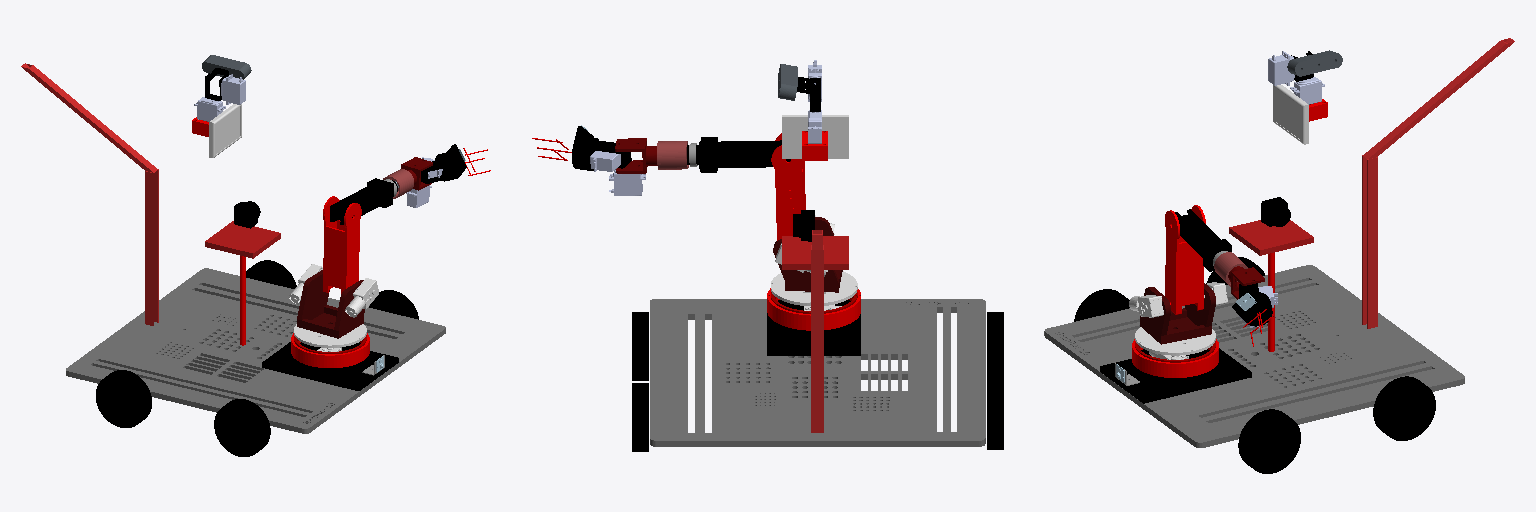
--- Render facts (derived) ---
The picture shows the robot from 3 angles, left to right: view 1: azimuth 30°, elevation 25°; view 2: azimuth 150°, elevation 25°; view 3: azimuth 270°, elevation 25°; orthographic projection.
Robot: nashbot — 54 links, 53 joints (9 revolute, 4 continuous, 2 prismatic, 38 fixed); root link link_base; default pose: all joints at 0 but 1 set to mid-range because 0 is outside their limits (slider1 = 0.015).
Links seen in each view (by area): view 1: link_base, link_power_line_mount, link_arm3, link_arm2, link_wheel, link_wheel_2, link_arm_mount_base, link_lidar_base_mount, link_display, link_arm1, link_arm4, link_arm1_top_mount (+8 smaller); view 2: link_base, link_power_line_mount, link_arm3, link_display, link_lidar_base_mount, link_arm_mount_base, link_arm4, link_arm1, link_arm1_top_mount, link_arm2, link_wheel, link_wheel_2 (+11 smaller); view 3: link_base, link_power_line_mount, link_wheel_4, link_wheel_3, link_arm3, link_arm2, link_arm_mount_base, link_lidar_base_mount, link_display, link_arm1, link_arm1_top_mount, link_wheel (+10 smaller).
Link boxes in pixels (left/top/right/bottom): link_base: left=66, top=268, right=445, bottom=433; link_power_line_mount: left=21, top=63, right=158, bottom=325; link_arm3: left=323, top=196, right=361, bottom=293; link_arm2: left=297, top=270, right=364, bottom=338; link_wheel: left=214, top=399, right=270, bottom=456; link_wheel_2: left=96, top=370, right=151, bottom=427; link_arm_mount_base: left=262, top=342, right=398, bottom=390; link_lidar_base_mount: left=205, top=221, right=280, bottom=258; link_display: left=209, top=104, right=241, bottom=157; link_arm1: left=291, top=333, right=369, bottom=367; link_arm4: left=330, top=185, right=383, bottom=224; link_arm1_top_mount: left=294, top=324, right=366, bottom=347; link_base: left=650, top=299, right=985, bottom=446; link_power_line_mount: left=811, top=230, right=823, bottom=432; link_arm3: left=771, top=133, right=805, bottom=240; link_display: left=782, top=115, right=848, bottom=158; link_lidar_base_mount: left=782, top=236, right=848, bottom=269; link_arm_mount_base: left=767, top=304, right=860, bottom=355; link_arm4: left=698, top=140, right=790, bottom=168; link_arm1: left=767, top=288, right=860, bottom=330; link_arm1_top_mount: left=771, top=271, right=857, bottom=305; link_arm2: left=773, top=217, right=842, bottom=292; link_wheel: left=987, top=312, right=1003, bottom=380; link_wheel_2: left=987, top=381, right=1003, bottom=449; link_base: left=1044, top=265, right=1464, bottom=447; link_power_line_mount: left=1362, top=38, right=1514, bottom=328; link_wheel_4: left=1238, top=409, right=1300, bottom=473; link_wheel_3: left=1373, top=376, right=1435, bottom=440; link_arm3: left=1165, top=205, right=1205, bottom=314; link_arm2: left=1140, top=283, right=1215, bottom=344; link_arm_mount_base: left=1100, top=348, right=1251, bottom=403; link_lidar_base_mount: left=1229, top=220, right=1313, bottom=255; link_display: left=1273, top=85, right=1308, bottom=144; link_arm1: left=1132, top=339, right=1218, bottom=377; link_arm1_top_mount: left=1135, top=327, right=1215, bottom=355; link_wheel: left=1074, top=289, right=1129, bottom=321.
Bounding box of the posed robot: 0.8207 × 0.7563 × 0.5976 m (x, y, z).
Meshes: 34 distinct files referenced, 46 mesh visuals loaded (32 binary STL); not drawn: 8 (file found but could not be loaded).

The robot description file, URDF, robot "nashbot":
<robot name="nashbot">
<link name="link_base">
<visual>
<origin xyz="0.2520876461287410164 0.049381592406075147661 1.4986273283692117531" rpy="2.3690644101149763567e-14 1.1096868729817312666e-14 0.52359877559829937077" />
<geometry>
<mesh filename="package://nashbot/description/link_base.stl"/>
</geometry>
<material name="link_base_material">
<color rgba="0.49803921568627451677 0.49803921568627451677 0.49803921568627451677 1.0"/>
</material>
</visual>
<collision>
<origin xyz="0.2520876461287410164 0.049381592406075147661 1.4986273283692117531" rpy="2.3690644101149763567e-14 1.1096868729817312666e-14 0.52359877559829937077" />
<geometry>
<mesh filename="package://nashbot/description/link_base.stl"/>
</geometry>
</collision>
<inertial>
<origin xyz="0.25473829630497213383 0.049944610217946147634 1.5030808118381122629" rpy="0 0 0"/>
<mass value="1.7554185880507524598" />
<inertia ixx="0.038415890154842265158" ixy="0.00020875286481553126318"  ixz="-2.0899768946497722488e-06" iyy="0.03839484829176181141" iyz="-2.5480533339506262644e-07" izz="0.076738818657899818265" />
</inertial>
</link>

<link name="link_planetary_gear_motor">
<visual>
<origin xyz="2.7755575615628913511e-17 -2.2204460492503130808e-16 -0.026817798965425746621" rpy="1.570796326794896558 1.570796326794896558 0" />
<geometry>
<mesh filename="package://nashbot/description/link_planetary_gear_motor.stl"/>
</geometry>
<material name="link_planetary_gear_motor_material">
<color rgba="0.58823529411764707842 0.58823529411764707842 0.6313725490196078205 1.0"/>
</material>
</visual>
<collision>
<origin xyz="2.7755575615628913511e-17 -2.2204460492503130808e-16 -0.026817798965425746621" rpy="1.570796326794896558 1.570796326794896558 0" />
<geometry>
<mesh filename="package://nashbot/description/link_planetary_gear_motor.stl"/>
</geometry>
</collision>
<inertial>
<origin xyz="4.6360191897660390393e-11 8.8798397577115881402e-07 -0.02900051884052946144" rpy="0 0 0"/>
<mass value="0.16371460908246579513" />
<inertia ixx="4.9412215825825060353e-05" ixy="3.9662144375412823476e-13"  ixz="-2.6336340849669741402e-13" iyy="4.9418313465302963377e-05" iyz="-5.6989714436444639164e-09" izz="9.4495347188306935303e-06" />
</inertial>
</link>

<link name="link_wheel">
<visual>
<origin xyz="0 2.0816681711721685133e-17 0.012500000000000000694" rpy="1.570796326794896558 -9.6378729602939122362e-19 -1.3877787807814456755e-17" />
<geometry>
<mesh filename="package://nashbot/description/link_wheel.stl"/>
</geometry>
<material name="link_wheel_material">
<color rgba="0 0 0 1.0"/>
</material>
</visual>
<collision>
<origin xyz="0 2.0816681711721685133e-17 0.012500000000000000694" rpy="1.570796326794896558 -9.6378729602939122362e-19 -1.3877787807814456755e-17" />
<geometry>
<mesh filename="package://nashbot/description/link_wheel.stl"/>
</geometry>
</collision>
<inertial>
<origin xyz="-1.5178301533867489243e-18 1.5390318680489373583e-17 -1.734723475976806324e-18" rpy="0 0 0"/>
<mass value="0.21292341699643807518" />
<inertia ixx="0.00015092828535447899425" ixy="-6.2836521550401898387e-21"  ixz="-2.7632411315833121429e-21" iyy="0.00015092828535447899425" iyz="7.7058585983821212491e-21" izz="0.00027967704810516230869" />
</inertial>
</link>

<joint name="front_right_wheel" type="continuous">
<origin xyz="2.7755575615628913511e-17 0.00013236607255451282583 0.024200000000000006228" rpy="-2.3697797467644779932e-15 -1.3595482708084594539e-14 1.4496119042768265128" />
<parent link="link_planetary_gear_motor" />
<child link="link_wheel" />
<axis xyz="0 0 1"/>
<limit effort="1" velocity="20" />
<joint_properties friction="0.0"/>
</joint>

<joint name="front_right_motor_mount" type="fixed">
<origin xyz="0.1067415492204779881 -0.1788715830669758422 1.4886273283692115221" rpy="-1.5707963267948854558 -2.3718399676765913129e-14 2.0943951023931965949" />
<parent link="link_base" />
<child link="link_planetary_gear_motor" />
<axis xyz="0 0 1"/>
<limit effort="1" velocity="20" />
<joint_properties friction="0.0"/>
</joint>

<link name="link_planetary_gear_motor_2">
<visual>
<origin xyz="-0.0067499999999999990563 -2.2204460492503130808e-16 -0.026817798965425750091" rpy="1.570796326794896558 1.570796326794896558 0" />
<geometry>
<mesh filename="package://nashbot/description/link_planetary_gear_motor.stl"/>
</geometry>
<material name="link_planetary_gear_motor_material">
<color rgba="0.58823529411764707842 0.58823529411764707842 0.6313725490196078205 1.0"/>
</material>
</visual>
<collision>
<origin xyz="-0.0067499999999999990563 -2.2204460492503130808e-16 -0.026817798965425750091" rpy="1.570796326794896558 1.570796326794896558 0" />
<geometry>
<mesh filename="package://nashbot/description/link_planetary_gear_motor.stl"/>
</geometry>
</collision>
<inertial>
<origin xyz="-0.006749999953639835952 8.8798397577115881402e-07 -0.029000518840529468378" rpy="0 0 0"/>
<mass value="0.16371460908246579513" />
<inertia ixx="4.9412215825825060353e-05" ixy="3.9662144375412823476e-13"  ixz="-2.6336340849669741402e-13" iyy="4.9418313465302963377e-05" iyz="-5.6989714436444639164e-09" izz="9.4495347188306935303e-06" />
</inertial>
</link>

<link name="link_wheel_2">
<visual>
<origin xyz="0 0 0.012500000000000014572" rpy="1.570796326794896558 1.4737208635348364678e-17 2.7755575615628913511e-17" />
<geometry>
<mesh filename="package://nashbot/description/link_wheel.stl"/>
</geometry>
<material name="link_wheel_material">
<color rgba="0 0 0 1.0"/>
</material>
</visual>
<collision>
<origin xyz="0 0 0.012500000000000014572" rpy="1.570796326794896558 1.4737208635348364678e-17 2.7755575615628913511e-17" />
<geometry>
<mesh filename="package://nashbot/description/link_wheel.stl"/>
</geometry>
</collision>
<inertial>
<origin xyz="-1.5525884937737550247e-18 -3.9015285796960360779e-18 1.2143064331837649661e-17" rpy="0 0 0"/>
<mass value="0.21292341699643807518" />
<inertia ixx="0.00015092828535447899425" ixy="1.2567304310080378173e-20"  ixz="-4.3552767229460301649e-21" iyy="0.00015092828535447899425" iyz="-1.0195930671590422061e-20" izz="0.00027967704810516230869" />
</inertial>
</link>

<joint name="back_right_wheel" type="continuous">
<origin xyz="-0.0067500000000000059952 -2.2204460492503130808e-16 0.024200000000000006228" rpy="3.1388029451430113175e-15 2.0076704344446854507e-14 1.8062615792804614934" />
<parent link="link_planetary_gear_motor_2" />
<child link="link_wheel_2" />
<axis xyz="0 0 1"/>
<limit effort="1" velocity="20" />
<joint_properties friction="0.0"/>
</joint>

<joint name="back_right_motor_mount" type="fixed">
<origin xyz="-0.018258450779519985741 0.037634767879130115453 1.4886273283692172953" rpy="-1.5707963267948854558 -2.3718399676765913129e-14 2.0943951023931965949" />
<parent link="link_base" />
<child link="link_planetary_gear_motor_2" />
<axis xyz="0 0 1"/>
<limit effort="1" velocity="20" />
<joint_properties friction="0.0"/>
</joint>

<link name="link_planetary_gear_motor_3">
<visual>
<origin xyz="9.7144514654701197287e-17 -2.2204460492503130808e-16 -0.026817798965425909685" rpy="1.570796326794896558 1.570796326794896558 0" />
<geometry>
<mesh filename="package://nashbot/description/link_planetary_gear_motor.stl"/>
</geometry>
<material name="link_planetary_gear_motor_material">
<color rgba="0.58823529411764707842 0.58823529411764707842 0.6313725490196078205 1.0"/>
</material>
</visual>
<collision>
<origin xyz="9.7144514654701197287e-17 -2.2204460492503130808e-16 -0.026817798965425909685" rpy="1.570796326794896558 1.570796326794896558 0" />
<geometry>
<mesh filename="package://nashbot/description/link_planetary_gear_motor.stl"/>
</geometry>
</collision>
<inertial>
<origin xyz="4.6360260923103562364e-11 8.8798397577115881402e-07 -0.029000518840529627973" rpy="0 0 0"/>
<mass value="0.16371460908246579513" />
<inertia ixx="4.9412215825825073906e-05" ixy="3.9662144375317922878e-13"  ixz="-2.6336340692303385749e-13" iyy="4.9418313465302963377e-05" iyz="-5.6989714436444647436e-09" izz="9.4495347188306969184e-06" />
</inertial>
</link>

<link name="link_wheel_3">
<visual>
<origin xyz="-1.0408340855860842566e-17 0 -0.012499999999999955591" rpy="-1.570796326794896558 2.4555750670609792415e-17 0" />
<geometry>
<mesh filename="package://nashbot/description/link_wheel.stl"/>
</geometry>
<material name="link_wheel_material">
<color rgba="0 0 0 1.0"/>
</material>
</visual>
<collision>
<origin xyz="-1.0408340855860842566e-17 0 -0.012499999999999955591" rpy="-1.570796326794896558 2.4555750670609792415e-17 0" />
<geometry>
<mesh filename="package://nashbot/description/link_wheel.stl"/>
</geometry>
</collision>
<inertial>
<origin xyz="-1.1888573593906864864e-17 4.1363685740271654947e-18 4.6837533851373791549e-17" rpy="0 0 0"/>
<mass value="0.21292341699643807518" />
<inertia ixx="0.00015092828535447899425" ixy="5.2363767958668245521e-22"  ixz="4.3757282422495333068e-23" iyy="0.00015092828535447899425" iyz="-3.8415093373879801149e-22" izz="0.00027967704810516230869" />
</inertial>
</link>

<joint name="back_left_wheel" type="continuous">
<origin xyz="1.3183898417423733918e-16 0.00013236607255451282583 0.024199999999999888267" rpy="-3.1415926535897300553 8.4607528550896269758e-16 -0.013799414977280648198" />
<parent link="link_planetary_gear_motor_3" />
<child link="link_wheel_3" />
<axis xyz="0 0 1"/>
<limit effort="1" velocity="20" />
<joint_properties friction="0.0"/>
</joint>

<joint name="back_left_motor_mount" type="fixed">
<origin xyz="0.39743374303700362837 0.27763476787912633181 1.4886273283692119662" rpy="1.5707963267949076602 -2.3718399676765935217e-14 2.094395102393197039" />
<parent link="link_base" />
<child link="link_planetary_gear_motor_3" />
<axis xyz="0 0 1"/>
<limit effort="1" velocity="20" />
<joint_properties friction="0.0"/>
</joint>

<link name="link_planetary_gear_motor_4">
<visual>
<origin xyz="2.7755575615628913511e-17 0 -0.026817798965425798663" rpy="1.570796326794896558 1.570796326794896558 0" />
<geometry>
<mesh filename="package://nashbot/description/link_planetary_gear_motor.stl"/>
</geometry>
<material name="link_planetary_gear_motor_material">
<color rgba="0.58823529411764707842 0.58823529411764707842 0.6313725490196078205 1.0"/>
</material>
</visual>
<collision>
<origin xyz="2.7755575615628913511e-17 0 -0.026817798965425798663" rpy="1.570796326794896558 1.570796326794896558 0" />
<geometry>
<mesh filename="package://nashbot/description/link_planetary_gear_motor.stl"/>
</geometry>
</collision>
<inertial>
<origin xyz="4.6360191534164516829e-11 8.8798397599320331307e-07 -0.029000518840529516951" rpy="0 0 0"/>
<mass value="0.16371460908246579513" />
<inertia ixx="4.9412215825825073906e-05" ixy="3.9662144375317922878e-13"  ixz="-2.6336340692303385749e-13" iyy="4.9418313465302963377e-05" iyz="-5.6989714436444647436e-09" izz="9.4495347188306969184e-06" />
</inertial>
</link>

<link name="link_wheel_4">
<visual>
<origin xyz="2.2204460492503130808e-16 5.5511151231257827021e-17 0.012500000000000066613" rpy="1.570796326794896558 5.7451327454495677216e-19 -6.9388939039072283776e-18" />
<geometry>
<mesh filename="package://nashbot/description/link_wheel.stl"/>
</geometry>
<material name="link_wheel_material">
<color rgba="0 0 0 1.0"/>
</material>
</visual>
<collision>
<origin xyz="2.2204460492503130808e-16 5.5511151231257827021e-17 0.012500000000000066613" rpy="1.570796326794896558 5.7451327454495677216e-19 -6.9388939039072283776e-18" />
<geometry>
<mesh filename="package://nashbot/description/link_wheel.stl"/>
</geometry>
</collision>
<inertial>
<origin xyz="2.2039618334328324953e-16 5.1118232347665877816e-17 6.4184768611141862493e-17" rpy="0 0 0"/>
<mass value="0.21292341699643807518" />
<inertia ixx="0.00015092828535447899425" ixy="1.0472753591733649104e-21"  ixz="-7.3540183705704762307e-23" iyy="0.00015092828535447899425" iyz="9.6216787126424129026e-21" izz="0.00027967704810516230869" />
</inertial>
</link>

<joint name="front_left_wheel" type="continuous">
<origin xyz="8.3266726846886740532e-17 0.00013236607255473487044 0.024199999999999888267" rpy="3.141592653589793116 1.4576386243846953543e-16 1.5124586876682513115" />
<parent link="link_planetary_gear_motor_4" />
<child link="link_wheel_4" />
<axis xyz="0 0 1"/>
<limit effort="1" velocity="20" />
<joint_properties friction="0.0"/>
</joint>

<joint name="front_left_motor_mount" type="fixed">
<origin xyz="0.52243374303700174099 0.061128416933020401913 1.4886273283692061931" rpy="1.5707963267949076602 -2.3718399676765935217e-14 2.094395102393197039" />
<parent link="link_base" />
<child link="link_planetary_gear_motor_4" />
<axis xyz="0 0 1"/>
<limit effort="1" velocity="20" />
<joint_properties friction="0.0"/>
</joint>

<link name="link_lidar_pole_mount">
<visual>
<origin xyz="2.7755575615628913511e-17 -1.3877787807814456755e-17 0" rpy="-3.141592653589793116 -0 2.6289196771528309169e-28" />
<geometry>
<mesh filename="package://nashbot/description/link_lidar_pole_mount.stl"/>
</geometry>
<material name="link_lidar_pole_mount_material">
<color rgba="1 0 0 1.0"/>
</material>
</visual>
<collision>
<origin xyz="2.7755575615628913511e-17 -1.3877787807814456755e-17 0" rpy="-3.141592653589793116 -0 2.6289196771528309169e-28" />
<geometry>
<mesh filename="package://nashbot/description/link_lidar_pole_mount.stl"/>
</geometry>
</collision>
<inertial>
<origin xyz="2.7489609469169247826e-17 -1.6803598692998956255e-17 -0.099999999999999991673" rpy="0 0 0"/>
<mass value="0.019634954084936210444" />
<inertia ixx="6.5572565412818210905e-05" ixy="3.4477001499029975834e-32"  ixz="3.8723119133539437369e-37" iyy="6.5572565412818210905e-05" iyz="2.0691053323687913409e-34" izz="2.4543692606170251104e-07" />
</inertial>
</link>

<link name="link_lidar_base_mount">
<visual>
<origin xyz="-0.00023304969072340808722 -0.067828390002250660284 -0.010000000000000008882" rpy="0 1.5777218104420236108e-30 2.6319996769441139311e-28" />
<geometry>
<mesh filename="package://nashbot/description/link_lidar_base_mount.stl"/>
</geometry>
<material name="link_lidar_base_mount_material">
<color rgba="0.74117647058823532547 0.13333333333333333148 0.13333333333333333148 1.0"/>
</material>
</visual>
<collision>
<origin xyz="-0.00023304969072340808722 -0.067828390002250660284 -0.010000000000000008882" rpy="0 1.5777218104420236108e-30 2.6319996769441139311e-28" />
<geometry>
<mesh filename="package://nashbot/description/link_lidar_base_mount.stl"/>
</geometry>
</collision>
<inertial>
<origin xyz="1.2061749168901236828e-17 1.3877787807814533792e-17 -0.0050000000000000087777" rpy="0 0 0"/>
<mass value="0.12500000000000002776" />
<inertia ixx="0.00010520833333333332016" ixy="5.8402357025106323431e-21"  ixz="-4.9468152598234281996e-34" iyy="0.00010520833333333334727" iyz="6.573840876841765467e-34" izz="0.00020833333333333334671" />
</inertial>
</link>

<link name="link_lidar">
<visual>
<origin xyz="-2.7755575615628913511e-17 2.7755575615628913511e-17 -0.040000000000000035527" rpy="0 -0 -2.6319996769441368003e-28" />
<geometry>
<mesh filename="package://nashbot/description/link_lidar.stl"/>
</geometry>
<material name="link_lidar_material">
<color rgba="0 0 0 1.0"/>
</material>
</visual>
<collision>
<origin xyz="-2.7755575615628913511e-17 2.7755575615628913511e-17 -0.040000000000000035527" rpy="0 -0 -2.6319996769441368003e-28" />
<geometry>
<mesh filename="package://nashbot/description/link_lidar.stl"/>
</geometry>
</collision>
<inertial>
<origin xyz="-2.8632664277945774584e-17 3.0511030913710427473e-17 -0.020000000000000035111" rpy="0 0 0"/>
<mass value="0.31808625617596653079" />
<inertia ixx="0.00020344266801254523081" ixy="-1.1293336711042068263e-20"  ixz="0" iyy="0.00020344266801254523081" iyz="-5.0812476927030464287e-34" izz="0.00032206233437816612734" />
</inertial>
</link>

<joint name="lidar_base" type="fixed">
<origin xyz="5.5511151231257827021e-17 -6.9388939039072283776e-18 -0.010000000000000008882" rpy="2.8398992587956424995e-29 1.5146129380243729344e-28 -1.5707963267948947816" />
<parent link="link_lidar_base_mount" />
<child link="link_lidar" />
<axis xyz="0 0 1"/>
<limit effort="1" velocity="20" />
<joint_properties friction="0.0"/>
</joint>

<joint name="lidar_plate" type="fixed">
<origin xyz="2.7755575615628913511e-17 -6.9388939039072283776e-18 -0.19999999999999995559" rpy="2.7755575615477452217e-17 -6.3108872417677637369e-29 -1.49880108324361995e-15" />
<parent link="link_lidar_pole_mount" />
<child link="link_lidar_base_mount" />
<axis xyz="0 0 1"/>
<limit effort="1" velocity="20" />
<joint_properties friction="0.0"/>
</joint>

<joint name="lidar_pole_base" type="fixed">
<origin xyz="0.24102998787479745779 0.075991116617792897614 1.5086273283692124281" rpy="-3.1415926535897695793 1.1096868729817273223e-14 0.52359877559829937077" />
<parent link="link_base" />
<child link="link_lidar_pole_mount" />
<axis xyz="0 0 1"/>
<limit effort="1" velocity="20" />
<joint_properties friction="0.0"/>
</joint>

<link name="link_camera_pole">
<visual>
<origin xyz="0 -5.2041704279304212832e-18 0" rpy="3.141592653589793116 -3.1554436208840472216e-30 -5.5511151230994932962e-17" />
<geometry>
<mesh filename="package://nashbot/description/link_camera_pole.stl"/>
</geometry>
<material name="link_camera_pole_material">
<color rgba="0 0 0 1.0"/>
</material>
</visual>
<collision>
<origin xyz="0 -5.2041704279304212832e-18 0" rpy="3.141592653589793116 -3.1554436208840472216e-30 -5.5511151230994932962e-17" />
<geometry>
<mesh filename="package://nashbot/description/link_camera_pole.stl"/>
</geometry>
</collision>
<inertial>
<origin xyz="-8.6895599421174607392e-19 -6.3374603801967724654e-18 -0.19999999999999998335" rpy="0 0 0"/>
<mass value="0.15707963267948968356" />
<inertia ixx="0.002098322093210182749" ixy="-2.32960550095056605e-19"  ixz="6.6087456654574002189e-33" iyy="0.002098322093210182749" iyz="-3.6754694085754244242e-49" izz="7.8539816339744905176e-06" />
</inertial>
</link>

<link name="link_camera_mount">
<visual>
<origin xyz="-2.7755575615628913511e-17 1.0408340855860842566e-17 0.39999999999999991118" rpy="3.141592653589793116 -3.1554436208840472216e-30 2.6289196771528215002e-28" />
<geometry>
<mesh filename="package://nashbot/description/link_camera_mount.stl"/>
</geometry>
<material name="link_camera_mount_material">
<color rgba="1 0 0 1.0"/>
</material>
</visual>
<collision>
<origin xyz="-2.7755575615628913511e-17 1.0408340855860842566e-17 0.39999999999999991118" rpy="3.141592653589793116 -3.1554436208840472216e-30 2.6289196771528215002e-28" />
<geometry>
<mesh filename="package://nashbot/description/link_camera_mount.stl"/>
</geometry>
</collision>
<inertial>
<origin xyz="6.6098729238871714592e-06 -2.4244051401543178397e-05 -0.012500000000000122125" rpy="0 0 0"/>
<mass value="0.051856380469324246663" />
<inertia ixx="1.6736544580269791969e-05" ixy="-1.5016677132805265823e-10"  ixz="1.9571202763295336942e-35" iyy="9.7338277476605398472e-06" iyz="-3.0715018515920239389e-35" izz="2.1068666029042382024e-05" />
</inertial>
</link>

<link name="link_servo_mg">
<visual>
<origin xyz="0 -1.9081958235744878039e-17 0" rpy="-1.570796326794896558 -1.5777218104420239611e-30 5.5511151231521996817e-17" />
<geometry>
<mesh filename="package://nashbot/description/link_servo_mg.stl"/>
</geometry>
<material name="link_servo_mg_material">
<color rgba="0.79607843137254896693 0.82352941176470584317 0.9372549019607843146 1.0"/>
</material>
</visual>
<collision>
<origin xyz="0 -1.9081958235744878039e-17 0" rpy="-1.570796326794896558 -1.5777218104420239611e-30 5.5511151231521996817e-17" />
<geometry>
<mesh filename="package://nashbot/description/link_servo_mg.stl"/>
</geometry>
</collision>
<inertial>
<origin xyz="-1.5748677662324889097e-11 -0.00026467633508028625636 -0.019605366569395203669" rpy="0 0 0"/>
<mass value="0.26063138106081079615" />
<inertia ixx="7.0719662757425341172e-05" ixy="-3.4286267469129391787e-12"  ixz="-7.5224114899793207117e-13" iyy="4.2001447207912371098e-05" iyz="-4.6721488492824413147e-07" izz="4.6556191039109613792e-05" />
</inertial>
</link>

<link name="link_camservo_m1">
<visual>
<origin xyz="-0.064767859876155853271 -5.2041704279304212832e-18 0.42339999999999999858" rpy="3.141592653589793116 -1.5777218104420236108e-30 -5.5511151231000596736e-17" />
<geometry>
<mesh filename="package://nashbot/description/link_camservo_m1.stl"/>
</geometry>
<material name="link_camservo_m1_material">
<color rgba="0 0 0 1.0"/>
</material>
</visual>
<collision>
<origin xyz="-0.064767859876155853271 -5.2041704279304212832e-18 0.42339999999999999858" rpy="3.141592653589793116 -1.5777218104420236108e-30 -5.5511151231000596736e-17" />
<geometry>
<mesh filename="package://nashbot/description/link_camservo_m1.stl"/>
</geometry>
</collision>
<inertial>
<origin xyz="2.0512893336016579937e-06 1.3208868744071550166e-17 -0.015741275663100628979" rpy="0 0 0"/>
<mass value="0.0035384613163860325138" />
<inertia ixx="1.3520111013862274014e-06" ixy="-7.5051692714794434663e-23"  ixz="-4.289093912310625612e-13" iyy="7.2414223788426267862e-07" iyz="2.3809251590923750871e-29" izz="7.8914424131184530706e-07" />
</inertial>
</link>

<link name="link_servo_mg_2">
<visual>
<origin xyz="-2.7755575615628913511e-17 -0.010149999999999881339 -0.040699999999999986189" rpy="1.570796326794896558 -3.5042722658857824434e-28 0" />
<geometry>
<mesh filename="package://nashbot/description/link_servo_mg.stl"/>
</geometry>
<material name="link_servo_mg_material">
<color rgba="0.79607843137254896693 0.82352941176470584317 0.9372549019607843146 1.0"/>
</material>
</visual>
<collision>
<origin xyz="-2.7755575615628913511e-17 -0.010149999999999881339 -0.040699999999999986189" rpy="1.570796326794896558 -3.5042722658857824434e-28 0" />
<geometry>
<mesh filename="package://nashbot/description/link_servo_mg.stl"/>
</geometry>
</collision>
<inertial>
<origin xyz="-1.5748707623918422667e-11 -0.0098853236649196138397 -0.02109463343060478252" rpy="0 0 0"/>
<mass value="0.26063138106081079615" />
<inertia ixx="7.0719662757425368277e-05" ixy="3.4286267462274423266e-12"  ixz="7.5224114388102794094e-13" iyy="4.2001447207912357546e-05" iyz="-4.6721488492824402559e-07" izz="4.6556191039109613792e-05" />
</inertial>
</link>

<link name="link_camservo_m2">
<visual>
<origin xyz="-0.083809903052826761893 -0.45295193791389476434 -0.013222478037231710085" rpy="-1.570796326794896558 -2.7660546660355029999e-18 -2.7755575615628913511e-17" />
<geometry>
<mesh filename="package://nashbot/description/link_camservo_m2.stl"/>
</geometry>
<material name="link_camservo_m2_material">
<color rgba="0 0 0 1.0"/>
</material>
</visual>
<collision>
<origin xyz="-0.083809903052826761893 -0.45295193791389476434 -0.013222478037231710085" rpy="-1.570796326794896558 -2.7660546660355029999e-18 -2.7755575615628913511e-17" />
<geometry>
<mesh filename="package://nashbot/description/link_camservo_m2.stl"/>
</geometry>
</collision>
<inertial>
<origin xyz="6.0868551865489450847e-09 -0.015262248583463478013 -0.013222478037231637227" rpy="0 0 0"/>
<mass value="0.001931722985446674215" />
<inertia ixx="5.1758431260979297283e-07" ixy="1.5673206370744795364e-13"  ixz="-5.1088387087330305326e-25" iyy="2.7939953019740575608e-07" iyz="1.1722638158126785291e-23" izz="2.9461796162978867886e-07" />
</inertial>
</link>

<link name="link_camera">
<visual>
<origin xyz="0.035000000000000044964 0.011999999999999566569 1.1102230246251565404e-16" rpy="3.141592653589793116 2.2641137767967475095e-17 1.3144068865196876003e-17" />
<geometry>
<mesh filename="package://nashbot/description/link_camera.stl"/>
</geometry>
<material name="link_camera_material">
<color rgba="0.34901960784313723618 0.37647058823529411242 0.4000000000000000222 1.0"/>
</material>
</visual>
<collision>
<origin xyz="0.035000000000000044964 0.011999999999999566569 1.1102230246251565404e-16" rpy="3.141592653589793116 2.2641137767967475095e-17 1.3144068865196876003e-17" />
<geometry>
<mesh filename="package://nashbot/description/link_camera.stl"/>
</geometry>
</collision>
<inertial>
<origin xyz="6.5715523994494540183e-05 -4.3067060068315713854e-16 -0.012452720306548941201" rpy="0 0 0"/>
<mass value="0.38286436898885872759" />
<inertia ixx="3.7903988598626700514e-05" ixy="8.2120786434934340389e-21"  ixz="7.541195460715395026e-08" iyy="0.00024397425804645867767" iyz="9.9121992461543579714e-25" izz="0.00024183895818068675584" />
</inertial>
</link>

<joint name="depthcam_fixed" type="fixed">
<origin xyz="-1.6345413367258032622e-06 -0.02923193791389466778 -0.013222478037231677125" rpy="-1.5707963267949081043 -1.570796326794896558 0" />
<parent link="link_camservo_m2" />
<child link="link_camera" />
<axis xyz="0 0 1"/>
<limit effort="1" velocity="20" />
<joint_properties friction="0.0"/>
</joint>

<joint name="depthcam_link2" type="revolute">
<origin xyz="-2.7755575615628913511e-17 0 0.0035500000000000444395" rpy="3.1415926535897926719 1.7901331675026359618e-15 1.3713482675482973061" />
<parent link="link_servo_mg_2" />
<child link="link_camservo_m2" />
<axis xyz="0 0 1"/>
<limit effort="1" velocity="20" lower="-1.2217304763960306069" upper="1.2217304763960306069"/>
<joint_properties friction="0.0"/>
</joint>

<joint name="depthcam_servo2" type="fixed">
<origin xyz="2.0431766707962317753e-06 -0.016528097546539697454 -0.03422905478477455965" rpy="-1.57079632679489678 1.1385562047249956919e-17 -5.55111512310009357e-17" />
<parent link="link_camservo_m1" />
<child link="link_servo_mg_2" />
<axis xyz="0 0 1"/>
<limit effort="1" velocity="20" />
<joint_properties friction="0.0"/>
</joint>

<joint name="depthcam_link1" type="revolute">
<origin xyz="1.1102230246251565404e-16 -0.010149999999999992362 -0.044749999999999401368" rpy="-8.4146415866264689867e-15 -1.3693585647025311445e-16 -1.165734175856133533e-15" />
<parent link="link_servo_mg" />
<child link="link_camservo_m1" />
<axis xyz="0 0 1"/>
<limit effort="1" velocity="20" lower="-1.570796326794896558" upper="1.570796326794896558"/>
<joint_properties friction="0.0"/>
</joint>

<joint name="depthcam_servo1" type="fixed">
<origin xyz="8.3266726846886740532e-17 1.7347234759768070944e-17 -0.024999999999999911182" rpy="4.3617391034892119681e-16 5.330945733157527207e-17 -3.141592653589793116" />
<parent link="link_camera_mount" />
<child link="link_servo_mg" />
<axis xyz="0 0 1"/>
<limit effort="1" velocity="20" />
<joint_properties friction="0.0"/>
</joint>

<link name="link_display">
<visual>
<origin xyz="-2.2204460492503130808e-16 2.7755575615628913511e-17 1.0408340855860842566e-17" rpy="3.141592653589793116 3.1554436208840472216e-30 0" />
<geometry>
<mesh filename="package://nashbot/description/link_display.stl"/>
</geometry>
<material name="link_display_material">
<color rgba="0.90196078431372550543 0.90196078431372550543 0.90196078431372550543 1.0"/>
</material>
</visual>
<collision>
<origin xyz="-2.2204460492503130808e-16 2.7755575615628913511e-17 1.0408340855860842566e-17" rpy="3.141592653589793116 3.1554436208840472216e-30 0" />
<geometry>
<mesh filename="package://nashbot/description/link_display.stl"/>
</geometry>
</collision>
<inertial>
<origin xyz="4.0904475002860896205e-09 1.3966962969221515218e-09 -0.004561055684320898182" rpy="0 0 0"/>
<mass value="0.07400407337253489537" />
<inertia ixx="6.254987234932367769e-05" ixy="-6.9969589148138296393e-12"  ixz="-2.2480618275590994195e-13" iyy="3.0966478872211573067e-05" iyz="2.1520166570592633383e-13" izz="9.2484010822233453809e-05" />
</inertial>
</link>

<joint name="display" type="fixed">
<origin xyz="5.5511151231257827021e-17 0.027086138725280768658 -0.012499999999999955591" rpy="1.5707963267948970021 1.570796326794896558 0" />
<parent link="link_camera_mount" />
<child link="link_display" />
<axis xyz="0 0 1"/>
<limit effort="1" velocity="20" />
<joint_properties friction="0.0"/>
</joint>

<joint name="depthcam_servo_mount" type="fixed">
<origin xyz="-5.5511151231257827021e-17 -1.7347234759768070944e-17 -0.39999999999999991118" rpy="5.679798517591284999e-29 6.4686594228123012885e-29 -5.5511151230994969939e-17" />
<parent link="link_camera_pole" />
<child link="link_camera_mount" />
<axis xyz="0 0 1"/>
<limit effort="1" velocity="20" />
<joint_properties friction="0.0"/>
</joint>

<joint name="depthcam_mount" type="fixed">
<origin xyz="0.20742998787479799416 0.13418802375210614475 1.5086273283692142044" rpy="-3.1415926535897695793 1.1096868729817318977e-14 0.52359877559829937077" />
<parent link="link_base" />
<child link="link_camera_pole" />
<axis xyz="0 0 1"/>
<limit effort="1" velocity="20" />
<joint_properties friction="0.0"/>
</joint>

<link name="link_arm_mount_base">
<visual>
<origin xyz="0.069996574328592880976 0.099666585571470511784 0" rpy="3.141592653589793116 3.1554436208840472216e-30 5.5511151231520714918e-17" />
<geometry>
<mesh filename="package://nashbot/description/link_arm_mount_base.stl"/>
</geometry>
<material name="link_arm_mount_base_material">
<color rgba="0 0 0 1.0"/>
</material>
</visual>
<collision>
<origin xyz="0.069996574328592880976 0.099666585571470511784 0" rpy="3.141592653589793116 3.1554436208840472216e-30 5.5511151231520714918e-17" />
<geometry>
<mesh filename="package://nashbot/description/link_arm_mount_base.stl"/>
</geometry>
</collision>
<inertial>
<origin xyz="-1.3877787807814456755e-17 -3.885590423242900587e-18 -0.0050000000000000001041" rpy="0 0 0"/>
<mass value="0.34676843776409471687" />
<inertia ixx="0.001147812875711951312" ixy="9.5429245679359389615e-08"  ixz="-3.6218588166338505088e-33" iyy="0.0005717053455846199915" iyz="-3.0112160452471111115e-37" izz="0.0017137387473338365484" />
</inertial>
</link>

<link name="link_wormgearmotor">
<visual>
<origin xyz="2.7755575615628913511e-17 5.5511151231257827021e-17 -0.03919999999999990159" rpy="1.570796326794896558 -7.4899662021316358754e-16 -5.5511151231013680734e-17" />
<geometry>
<mesh filename="package://nashbot/description/link_wormgearmotor.stl"/>
</geometry>
<material name="link_wormgearmotor_material">
<color rgba="0.91764705882352937127 0.91764705882352937127 0.91764705882352937127 1.0"/>
</material>
</visual>
<collision>
<origin xyz="2.7755575615628913511e-17 5.5511151231257827021e-17 -0.03919999999999990159" rpy="1.570796326794896558 -7.4899662021316358754e-16 -5.5511151231013680734e-17" />
<geometry>
<mesh filename="package://nashbot/description/link_wormgearmotor.stl"/>
</geometry>
</collision>
<inertial>
<origin xyz="0.012275831121147539118 -0.00018146365526520243008 -0.012751006890205829683" rpy="0 0 0"/>
<mass value="0.28586755284124198973" />
<inertia ixx="3.6344599448181424105e-05" ixy="2.2893917968346145359e-06"  ixz="-4.1274865069703853439e-06" iyy="0.00011286967916682722206" iyz="-6.3114747963255398508e-08" izz="0.00012232130776055024951" />
</inertial>
</link>

<link name="link_arm1_base">
<visual>
<origin xyz="-0.18119999999999994444 -2.7755575615628913511e-17 0.0075000000000000621725" rpy="-3.141592653589793116 -1.5777218104420236108e-30 -5.5511151231010605409e-17" />
<geometry>
<mesh filename="package://nashbot/description/link_arm1_base.stl"/>
</geometry>
<material name="link_arm1_base_material">
<color rgba="0 0 0 1.0"/>
</material>
</visual>
<collision>
<origin xyz="-0.18119999999999994444 -2.7755575615628913511e-17 0.0075000000000000621725" rpy="-3.141592653589793116 -1.5777218104420236108e-30 -5.5511151231010605409e-17" />
<geometry>
<mesh filename="package://nashbot/description/link_arm1_base.stl"/>
</geometry>
</collision>
<inertial>
<origin xyz="5.5511151231257827021e-17 -4.4141104363653874474e-17 6.8521577301083880229e-17" rpy="0 0 0"/>
<mass value="0.039230638261702803493" />
<inertia ixx="9.0223776933653446219e-05" ixy="4.4487477082576095678e-32"  ixz="-1.4002695692781657919e-34" iyy="9.0223776933653446219e-05" iyz="2.8469604137736200949e-34" izz="0.00017897640493249301571" />
</inertial>
</link>

<link name="link_arm1">
<visual>
<origin xyz="0 -0.067724570631980868241 2.2204460492503130808e-16" rpy="3.141592653589793116 3.1554436208840472216e-30 5.5511151231520862829e-17" />
<geometry>
<mesh filename="package://nashbot/description/link_arm1.stl"/>
</geometry>
<material name="link_arm1_material">
<color rgba="1 0 0 1.0"/>
</material>
</visual>
<collision>
<origin xyz="0 -0.067724570631980868241 2.2204460492503130808e-16" rpy="3.141592653589793116 3.1554436208840472216e-30 5.5511151231520862829e-17" />
<geometry>
<mesh filename="package://nashbot/description/link_arm1.stl"/>
</geometry>
</collision>
<inertial>
<origin xyz="-1.8259788892259923327e-18 -0.067724570631980868241 -0.012499999999999794262" rpy="0 0 0"/>
<mass value="0.065384397102838165416" />
<inertia ixx="0.0001525524414595170531" ixy="8.4683616486371102382e-21"  ixz="-4.813706282537201355e-34" iyy="0.0001525524414595170531" iyz="-2.6721437743404468883e-50" izz="0.0002982940082208218103" />
</inertial>
</link>

<link name="link_arm1_bearing">
<visual>
<origin xyz="-0.46200000000000002176 -2.7755575615628913511e-17 0.012500000000000177636" rpy="3.141592653589793116 4.7331654313260708325e-30 3.0032019670653133812e-28" />
<geometry>
<mesh filename="package://nashbot/description/link_arm1_bearing.stl"/>
</geometry>
<material name="link_arm1_bearing_material">
<color rgba="0.67058823529411759612 0.0078431372549019606755 0 1.0"/>
</material>
</visual>
<collision>
<origin xyz="-0.46200000000000002176 -2.7755575615628913511e-17 0.012500000000000177636" rpy="3.141592653589793116 4.7331654313260708325e-30 3.0032019670653133812e-28" />
<geometry>
<mesh filename="package://nashbot/description/link_arm1_bearing.stl"/>
</geometry>
</collision>
<inertial>
<origin xyz="0 -3.3626964829036833577e-17 1.9428902930940239457e-16" rpy="0 0 0"/>
<mass value="0.060475658581603586317" />
<inertia ixx="0.00012144759880165811091" ixy="-1.3483392047430988362e-20"  ixz="5.4501477463274012782e-34" iyy="0.00012144759880165809736" iyz="-1.1297852849092475921e-33" izz="0.00023659564983439916206" />
</inertial>
</link>

<link name="link_arm1_top_mount">
<visual>
<origin xyz="-2.3828835848949125875e-08 -0.062672058814684961092 0" rpy="3.141592653589793116 3.1554436208840472216e-30 3.0032019670653124843e-28" />
<geometry>
<mesh filename="package://nashbot/description/link_arm1_top_mount.stl"/>
</geometry>
<material name="link_arm1_top_mount_material">
<color rgba="0.91764705882352937127 0.91764705882352937127 0.91764705882352937127 1.0"/>
</material>
</visual>
<collision>
<origin xyz="-2.3828835848949125875e-08 -0.062672058814684961092 0" rpy="3.141592653589793116 3.1554436208840472216e-30 3.0032019670653124843e-28" />
<geometry>
<mesh filename="package://nashbot/description/link_arm1_top_mount.stl"/>
</geometry>
</collision>
<inertial>
<origin xyz="1.4378691115228168476e-10 -0.062679899495732313564 -0.0074999999999999997224" rpy="0 0 0"/>
<mass value="0.24404755337625547162" />
<inertia ixx="0.0002655499667277153638" ixy="-2.7516557421744160077e-16"  ixz="8.0905001274075411098e-34" iyy="0.00026554996681770284307" iyz="-2.4849059100968488227e-33" izz="0.00052194815029380859164" />
</inertial>
</link>

<link name="link_arm2">
<visual>
<origin xyz="0.1617000000000000659 0 0" rpy="-3.141592653589793116 -3.1554436208840472216e-30 3.0032019670653156233e-28" />
<geometry>
<mesh filename="package://nashbot/description/link_arm2.stl"/>
</geometry>
<material name="link_arm2_material">
<color rgba="0.31372549019607842702 0.050980392156862744391 0.050980392156862744391 1.0"/>
</material>
</visual>
<collision>
<origin xyz="0.1617000000000000659 0 0" rpy="-3.141592653589793116 -3.1554436208840472216e-30 3.0032019670653156233e-28" />
<geometry>
<mesh filename="package://nashbot/description/link_arm2.stl"/>
</geometry>
</collision>
<inertial>
<origin xyz="-0.0070359335835134539927 1.0636301506707371716e-18 -0.032141109297283518287" rpy="0 0 0"/>
<mass value="0.19942265577734524795" />
<inertia ixx="0.00039223174386867259772" ixy="-2.7891337612392094098e-20"  ixz="-3.4622819199722822147e-05" iyy="0.00025122283535780907731" iyz="-1.0863492997106695998e-32" izz="0.0003987650450902163724" />
</inertial>
</link>

<link name="link_wormgearmotor_2">
<visual>
<origin xyz="-0.0028415845288379815159 0.00096228899738615147896 0.013699999999999962208" rpy="-1.57079632679489678 7.0785777211730428268e-16 0" />
<geometry>
<mesh filename="package://nashbot/description/link_wormgearmotor.stl"/>
</geometry>
<material name="link_wormgearmotor_material">
<color rgba="0.91764705882352937127 0.91764705882352937127 0.91764705882352937127 1.0"/>
</material>
</visual>
<collision>
<origin xyz="-0.0028415845288379815159 0.00096228899738615147896 0.013699999999999962208" rpy="-1.57079632679489678 7.0785777211730428268e-16 0" />
<geometry>
<mesh filename="package://nashbot/description/link_wormgearmotor.stl"/>
</geometry>
</collision>
<inertial>
<origin xyz="0.0094342465923095281122 0.0011437526526514084444 -0.01274899310979410276" rpy="0 0 0"/>
<mass value="0.28586755284124198973" />
<inertia ixx="3.6344599448181424105e-05" ixy="-2.2893917968346103007e-06"  ixz="4.1274865069703929672e-06" iyy="0.00011286967916682722206" iyz="-6.3114747963251401571e-08" izz="0.0001223213077605501953" />
</inertial>
</link>

<joint name="wormmotor1_fixed" type="fixed">
<origin xyz="-0.033380152669139795396 -0.044999999999999928946 -0.066448956727981567383" rpy="-1.570796326794896558 -0.34906585039886578459 -3.3479279821387341673e-16" />
<parent link="link_arm2" />
<child link="link_wormgearmotor_2" />
<axis xyz="0 0 1"/>
<limit effort="1" velocity="20" />
<joint_properties friction="0.0"/>
</joint>

<link name="link_arm3">
<visual>
<origin xyz="0.25509999999999988241 -0.32916826553344735729 -0.016699999999999964873" rpy="-1.570796326794896558 -5.7995956049504995456e-18 0" />
<geometry>
<mesh filename="package://nashbot/description/link_arm3.stl"/>
</geometry>
<material name="link_arm3_material">
<color rgba="1 0 0 1.0"/>
</material>
</visual>
<collision>
<origin xyz="0.25509999999999988241 -0.32916826553344735729 -0.016699999999999964873" rpy="-1.570796326794896558 -5.7995956049504995456e-18 0" />
<geometry>
<mesh filename="package://nashbot/description/link_arm3.stl"/>
</geometry>
</collision>
<inertial>
<origin xyz="2.1883995615645801536e-06 -0.067137476231158510487 -0.025014315276753969208" rpy="0 0 0"/>
<mass value="0.11979063165013247028" />
<inertia ixx="0.00029340427751115482832" ixy="2.2666791432547303954e-08"  ixz="-1.1119175780538934926e-08" iyy="7.1091447108592066974e-05" iyz="-1.1962846920693181481e-07" izz="0.00027454117575640346258" />
</inertial>
</link>

<link name="link_arm4">
<visual>
<origin xyz="0.20100000000000028955 -0.1840000000000000524 -0.2489999999999999436" rpy="-1.570796326794896558 6.3308973335989462012e-19 0" />
<geometry>
<mesh filename="package://nashbot/description/link_arm4.stl"/>
</geometry>
<material name="link_arm4_material">
<color rgba="0 0 0 1.0"/>
</material>
</visual>
<collision>
<origin xyz="0.20100000000000028955 -0.1840000000000000524 -0.2489999999999999436" rpy="-1.570796326794896558 6.3308973335989462012e-19 0" />
<geometry>
<mesh filename="package://nashbot/description/link_arm4.stl"/>
</geometry>
</collision>
<inertial>
<origin xyz="3.3306690738754696213e-16 -0.06107094060424272941 -0.014999999999999928321" rpy="0 0 0"/>
<mass value="0.084730816987227744463" />
<inertia ixx="0.00016011296227034764743" ixy="1.306278563916076881e-22"  ixz="1.3815758801454428343e-22" iyy="1.8825458091822433546e-05" iyz="-4.1856640711412625882e-21" izz="0.00015951186882638395" />
</inertial>
</link>

<link name="link_wrist_mid">
<visual>
<origin xyz="-0.058799999999999963407 0.012500000000000011102 0.015999999999999986455" rpy="1.570796326794896558 1.570796326794896336 0" />
<geometry>
<mesh filename="package://nashbot/description/link_wrist_mid.stl"/>
</geometry>
<material name="link_wrist_mid_material">
<color rgba="0 0 0 1.0"/>
</material>
</visual>
<collision>
<origin xyz="-0.058799999999999963407 0.012500000000000011102 0.015999999999999986455" rpy="1.570796326794896558 1.570796326794896336 0" />
<geometry>
<mesh filename="package://nashbot/description/link_wrist_mid.stl"/>
</geometry>
</collision>
<inertial>
<origin xyz="2.7806818415118064355e-17 0.0051151343140878819185 0.016000000000000000333" rpy="0 0 0"/>
<mass value="0.025315413537536860661" />
<inertia ixx="7.864055029639283761e-06" ixy="-6.5149658695238028955e-23"  ixz="-3.0665285652003468643e-23" iyy="9.3890553159420558888e-06" iyz="2.5095222901058406245e-22" izz="8.0187605486312163921e-06" />
</inertial>
</link>

<link name="link_wrist_base_bearing">
<visual>
<origin xyz="0 1.3877787807814456755e-17 0.0050000000000000044409" rpy="-3.141592653589793116 -0 0" />
<geometry>
<mesh filename="package://nashbot/description/link_wrist_base_bearing.stl"/>
</geometry>
<material name="link_wrist_base_bearing_material">
<color rgba="0.64705882352941179736 0.64705882352941179736 0.64705882352941179736 1.0"/>
</material>
</visual>
<collision>
<origin xyz="0 1.3877787807814456755e-17 0.0050000000000000044409" rpy="-3.141592653589793116 -0 0" />
<geometry>
<mesh filename="package://nashbot/description/link_wrist_base_bearing.stl"/>
</geometry>
</collision>
<inertial>
<origin xyz="1.7142372092775523619e-18 1.2249134098008070528e-17 4.336808689942017736e-18" rpy="0 0 0"/>
<mass value="0.0023389497908041689996" />
<inertia ixx="3.3473362730383549109e-07" ixy="-9.2907245037253457062e-24"  ixz="8.7497336888934767805e-24" iyy="3.3473362730383517345e-07" iyz="4.7539234577860876733e-23" izz="6.3048475809426790435e-07" />
</inertial>
</link>

<joint name="arm_wrist_bearing_mount" type="revolute">
<origin xyz="0 0.023399999999999976374 0.016000000000000014211" rpy="1.57079632679489678 -0.071548355035719074513 -3.1415926535897504834" />
<parent link="link_wrist_mid" />
<child link="link_wrist_base_bearing" />
<axis xyz="0 0 1"/>
<limit effort="1" velocity="20" lower="-3.141592653589793116" upper="3.141592653589793116"/>
<joint_properties friction="0.0"/>
</joint>

<link name="link_planetary_gear_motor_5">
<visual>
<origin xyz="2.7755575615628913511e-17 0 0.0067572010345741673198" rpy="1.570796326794896558 1.570796326794896558 0" />
<geometry>
<mesh filename="package://nashbot/description/link_planetary_gear_motor.stl"/>
</geometry>
<material name="link_planetary_gear_motor_material">
<color rgba="0.58823529411764707842 0.58823529411764707842 0.6313725490196078205 1.0"/>
</material>
</visual>
<collision>
<origin xyz="2.7755575615628913511e-17 0 0.0067572010345741673198" rpy="1.570796326794896558 1.570796326794896558 0" />
<geometry>
<mesh filename="package://nashbot/description/link_planetary_gear_motor.stl"/>
</geometry>
</collision>
<inertial>
<origin xyz="4.6360191787228172627e-11 8.8798397599321866554e-07 0.0045744811594704481647" rpy="0 0 0"/>
<mass value="0.16371460908246579513" />
<inertia ixx="4.9412215825825073906e-05" ixy="3.9662144407382475676e-13"  ixz="-2.6336340560459999906e-13" iyy="4.9418313465302990482e-05" iyz="-5.6989714436445317452e-09" izz="9.4495347188306969184e-06" />
</inertial>
</link>

<link name="link_motor_horn">
<visual>
<origin xyz="2.7755575615628913511e-17 0 0.016300000000000092193" rpy="-3.141592653589793116 -1.7997756063259373605e-17 0" />
<geometry>
<mesh filename="package://nashbot/description/link_motor_horn.stl"/>
</geometry>
<material name="link_motor_horn_material">
<color rgba="0.76862745098039220171 0.88627450980392152857 0.95294117647058818044 1.0"/>
</material>
</visual>
<collision>
<origin xyz="2.7755575615628913511e-17 0 0.016300000000000092193" rpy="-3.141592653589793116 -1.7997756063259373605e-17 0" />
<geometry>
<mesh filename="package://nashbot/description/link_motor_horn.stl"/>
</geometry>
</collision>
<inertial>
<origin xyz="2.7640601199405478755e-17 -4.3287568024367668511e-19 -0.0019999999999999081013" rpy="0 0 0"/>
<mass value="0.0015482237069527797838" />
<inertia ixx="5.4665677864642624139e-08" ixy="1.8965966944396255499e-25"  ixz="-1.1112664125498263919e-25" iyy="5.4665677864642637374e-08" iyz="-3.5067144544243360741e-25" izz="1.0520275917741118816e-07" />
</inertial>
</link>

<link name="link_wrist_base">
<visual>
<origin xyz="0 0 0.013599999999999945466" rpy="3.141592653589793116 -0 0" />
<geometry>
<mesh filename="package://nashbot/description/link_wrist_base.stl"/>
</geometry>
<material name="link_wrist_base_material">
<color rgba="0.6313725490196078205 0.31764705882352939348 0.31764705882352939348 1.0"/>
</material>
</visual>
<collision>
<origin xyz="0 0 0.013599999999999945466" rpy="3.141592653589793116 -0 0" />
<geometry>
<mesh filename="package://nashbot/description/link_wrist_base.stl"/>
</geometry>
</collision>
<inertial>
<origin xyz="4.7792667960986998855e-19 -2.0013260090284220719e-18 0.0084999085037768731116" rpy="0 0 0"/>
<mass value="0.020188555995914712199" />
<inertia ixx="6.7841122272357008637e-06" ixy="-2.6759829556711618055e-39"  ixz="-5.0995013149664020338e-23" iyy="6.7841122272357034048e-06" iyz="2.2824531374002951264e-22" izz="7.349155910994573618e-06" />
</inertial>
</link>

<link name="link_wrist_end">
<visual>
<origin xyz="-2.2204460492503130808e-16 0.058799999999999991163 0.062699999999999977973" rpy="-3.141592653589793116 -6.9388939039072299184e-18 -3.4694469519536149592e-18" />
<geometry>
<mesh filename="package://nashbot/description/link_wrist_end.stl"/>
</geometry>
<material name="link_wrist_end_material">
<color rgba="0.43137254901960786491 0.03529411764705882304 0.03529411764705882304 1.0"/>
</material>
</visual>
<collision>
<origin xyz="-2.2204460492503130808e-16 0.058799999999999991163 0.062699999999999977973" rpy="-3.141592653589793116 -6.9388939039072299184e-18 -3.4694469519536149592e-18" />
<geometry>
<mesh filename="package://nashbot/description/link_wrist_end.stl"/>
</geometry>
</collision>
<inertial>
<origin xyz="-2.4631217638490143254e-16 2.8246327237155316706e-17 -0.035699669196255320869" rpy="0 0 0"/>
<mass value="0.025188988321725478553" />
<inertia ixx="1.1192763951990891333e-05" ixy="-3.2991314790051046661e-12"  ixz="7.7665260623476828114e-23" iyy="1.416948896355401748e-05" iyz="5.5550625043345250304e-22" izz="9.9812526945634176995e-06" />
</inertial>
</link>

<link name="link_servo_mg_3">
<visual>
<origin xyz="-2.7755575615628913511e-17 -0.010150000000000047873 -0.040700000000000180478" rpy="1.570796326794896558 -0 6.3534247307650559833e-17" />
<geometry>
<mesh filename="package://nashbot/description/link_servo_mg.stl"/>
</geometry>
<material name="link_servo_mg_material">
<color rgba="0.79607843137254896693 0.82352941176470584317 0.9372549019607843146 1.0"/>
</material>
</visual>
<collision>
<origin xyz="-2.7755575615628913511e-17 -0.010150000000000047873 -0.040700000000000180478" rpy="1.570796326794896558 -0 6.3534247307650559833e-17" />
<geometry>
<mesh filename="package://nashbot/description/link_servo_mg.stl"/>
</geometry>
</collision>
<inertial>
<origin xyz="-1.5748705449868149962e-11 -0.0098853236649197803732 -0.021094633430604980279" rpy="0 0 0"/>
<mass value="0.26063138106081079615" />
<inertia ixx="7.0719662757425368277e-05" ixy="3.4286267502588492135e-12"  ixz="7.5224114905436230833e-13" iyy="4.2001447207912357546e-05" iyz="-4.6721488492824397265e-07" izz="4.6556191039109600239e-05" />
</inertial>
</link>

<link name="link_arm_wrist2">
<visual>
<origin xyz="-0.0081956442445517141415 -0.0075000000000000109981 2.2204460492503130808e-16" rpy="-1.570796326794896558 -1.570796326794896558 0" />
<geometry>
<mesh filename="package://nashbot/description/link_arm_wrist2.stl"/>
</geometry>
<material name="link_arm_wrist2_material">
<color rgba="0 0 0 1.0"/>
</material>
</visual>
<collision>
<origin xyz="-0.0081956442445517141415 -0.0075000000000000109981 2.2204460492503130808e-16" rpy="-1.570796326794896558 -1.570796326794896558 0" />
<geometry>
<mesh filename="package://nashbot/description/link_arm_wrist2.stl"/>
</geometry>
</collision>
<inertial>
<origin xyz="0.016871896339814080462 -1.0408340855860842566e-17 -0.013174576908349770743" rpy="0 0 0"/>
<mass value="0.0076395059073011521711" />
<inertia ixx="9.9049260207194415908e-07" ixy="-1.4401014065469041185e-23"  ixz="3.2580319772825784247e-23" iyy="3.0417224068398439618e-06" iyz="3.8644742988894522295e-24" izz="2.3476594558161568772e-06" />
</inertial>
</link>

<link name="link_servo_mg_4">
<visual>
<origin xyz="-2.2204460492503130808e-16 -0.010149999999999992362 -0.040699999999999958433" rpy="1.570796326794896558 -0 4.336808689942018699e-19" />
<geometry>
<mesh filename="package://nashbot/description/link_servo_mg.stl"/>
</geometry>
<material name="link_servo_mg_material">
<color rgba="0.79607843137254896693 0.82352941176470584317 0.9372549019607843146 1.0"/>
</material>
</visual>
<collision>
<origin xyz="-2.2204460492503130808e-16 -0.010149999999999992362 -0.040699999999999958433" rpy="1.570796326794896558 -0 4.336808689942018699e-19" />
<geometry>
<mesh filename="package://nashbot/description/link_servo_mg.stl"/>
</geometry>
</collision>
<inertial>
<origin xyz="-1.5748899872583921349e-11 -0.009885323664919724862 -0.021094633430604754765" rpy="0 0 0"/>
<mass value="0.26063138106081079615" />
<inertia ixx="7.0719662757425341172e-05" ixy="3.428626746173052374e-12"  ixz="7.5224114872716007143e-13" iyy="4.2001447207912357546e-05" iyz="-4.6721488492824460792e-07" izz="4.6556191039109613792e-05" />
</inertial>
</link>

<link name="link_armlast">
<visual>
<origin xyz="-0.0052000000000000934364 -0.052100000000000035172 -0.010000000000000008882" rpy="0 6.9388939039072283776e-18 -5.5511151231257827021e-17" />
<geometry>
<mesh filename="package://nashbot/description/link_armlast.stl"/>
</geometry>
<material name="link_armlast_material">
<color rgba="0 0 0 1.0"/>
</material>
</visual>
<collision>
<origin xyz="-0.0052000000000000934364 -0.052100000000000035172 -0.010000000000000008882" rpy="0 6.9388939039072283776e-18 -5.5511151231257827021e-17" />
<geometry>
<mesh filename="package://nashbot/description/link_armlast.stl"/>
</geometry>
</collision>
<inertial>
<origin xyz="-9.1072982488782372457e-17 -4.8964998722311744575e-17 -0.0050000000000000087777" rpy="0 0 0"/>
<mass value="0.023029890215175794627" />
<inertia ixx="3.9323633187538940061e-06" ixy="-9.4039548065783000637e-38"  ixz="-2.728625186044979227e-23" iyy="3.932363318753891465e-06" iyz="-1.5572741292161194043e-22" izz="7.4808951339215242534e-06" />
</inertial>
</link>

<link name="link_armlast2">
<visual>
<origin xyz="2.2204460492503130808e-16 0.02460000000000017728 2.2204460492503130808e-16" rpy="3.141592653589793116 6.9388939039072299184e-18 0" />
<geometry>
<mesh filename="package://nashbot/description/link_armlast2.stl"/>
</geometry>
<material name="link_armlast2_material">
<color rgba="0 0 0 1.0"/>
</material>
</visual>
<collision>
<origin xyz="2.2204460492503130808e-16 0.02460000000000017728 2.2204460492503130808e-16" rpy="3.141592653589793116 6.9388939039072299184e-18 0" />
<geometry>
<mesh filename="package://nashbot/description/link_armlast2.stl"/>
</geometry>
</collision>
<inertial>
<origin xyz="-0.00015162839224752496675 0.0049229352238554019081 -0.0053351926312887399187" rpy="0 0 0"/>
<mass value="0.02848607433623640689" />
<inertia ixx="7.0690614025594256253e-06" ixy="7.50518565859410331e-08"  ixz="-6.1109741471963252058e-09" iyy="5.4638465164959300227e-06" iyz="1.9840565104816384308e-07" izz="1.2083637712368303714e-05" />
</inertial>
</link>

<link name="link_cam_v2.1_v1">
<visual>
<origin xyz="8.0691592129866762662e-05 -4.4408920985006261617e-16 0" rpy="1.570796326794896558 1.570796326794896558 0" />
<geometry>
<mesh filename="package://nashbot/description/link_cam_v2.1_v1.stl"/>
</geometry>
<material name="link_cam_v2.1_v1_material">
<color rgba="0.76862745098039220171 0.88627450980392152857 0.95294117647058818044 1.0"/>
</material>
</visual>
<collision>
<origin xyz="8.0691592129866762662e-05 -4.4408920985006261617e-16 0" rpy="1.570796326794896558 1.570796326794896558 0" />
<geometry>
<mesh filename="package://nashbot/description/link_cam_v2.1_v1.stl"/>
</geometry>
</collision>
<inertial>
<origin xyz="-0.00030854614512966250248 -6.5697214281977095408e-05 -0.0013912718489253951722" rpy="0 0 0"/>
<mass value="0.00099893693584445397878" />
<inertia ixx="3.7977907253365988544e-08" ixy="4.971988875398760576e-10"  ixz="-1.2093744048625509235e-09" iyy="4.0322453945985749031e-08" iyz="-3.6890046530506058202e-11" izz="7.3699524745787560956e-08" />
</inertial>
</link>

<joint name="arm_camera" type="fixed">
<origin xyz="4.4408920985006261617e-16 0.027087006597220630866 -0.010000000000000008882" rpy="3.2959746043559232242e-15 1.0685896612017094231e-15 -1.570796326794896336" />
<parent link="link_armlast2" />
<child link="link_cam_v2.1_v1" />
<axis xyz="0 0 1"/>
<limit effort="1" velocity="20" />
<joint_properties friction="0.0"/>
</joint>

<link name="link_gripper">
<visual>
<origin xyz="2.2204460492503130808e-16 -0.0018162919559776558032 -2.2204460492503130808e-16" rpy="3.141592653589793116 -0 0" />
<geometry>
<mesh filename="package://nashbot/description/link_gripper.stl"/>
</geometry>
<material name="link_gripper_material">
<color rgba="1 0 0 1.0"/>
</material>
</visual>
<collision>
<origin xyz="2.2204460492503130808e-16 -0.0018162919559776558032 -2.2204460492503130808e-16" rpy="3.141592653589793116 -0 0" />
<geometry>
<mesh filename="package://nashbot/description/link_gripper.stl"/>
</geometry>
</collision>
<inertial>
<origin xyz="0.00079580498278177739906 -0.0026024792863327222796 -0.0059513859519874194592" rpy="0 0 0"/>
<mass value="0.053745295444940499596" />
<inertia ixx="4.046232223033912664e-06" ixy="4.1693091515387316888e-07"  ixz="2.9005791768897840491e-07" iyy="1.2370731205241139694e-05" iyz="-4.9992915530109274626e-07" izz="1.346099207764861835e-05" />
</inertial>
</link>

<link name="link_gripper_2">
<visual>
<origin xyz="0.019250000000000211386 -0.0014000000000000678568 0" rpy="3.141592653589793116 -0 5.5511151231257827021e-17" />
<geometry>
<mesh filename="package://nashbot/description/link_gripper.stl"/>
</geometry>
<material name="link_gripper_material">
<color rgba="1 0 0 1.0"/>
</material>
</visual>
<collision>
<origin xyz="0.019250000000000211386 -0.0014000000000000678568 0" rpy="3.141592653589793116 -0 5.5511151231257827021e-17" />
<geometry>
<mesh filename="package://nashbot/description/link_gripper.stl"/>
</geometry>
</collision>
<inertial>
<origin xyz="0.019474912406367315271 -0.00082124484629029386503 -0.0036320389490128281509" rpy="0 0 0"/>
<mass value="0.063621763525899682756" />
<inertia ixx="5.4502595612101051371e-06" ixy="-1.8891509452412410042e-07"  ixz="5.2856255521759516074e-08" iyy="1.7216692365076735247e-05" iyz="-7.6712222352227947649e-08" izz="2.1516998509228454505e-05" />
</inertial>
</link>

<link name="link_gripper_3">
<visual>
<origin xyz="2.2204460492503130808e-16 -1.1102230246251565404e-16 0" rpy="3.141592653589793116 -5.5511151231257827021e-17 6.9388939039072283776e-18" />
<geometry>
<mesh filename="package://nashbot/description/link_gripper.stl"/>
</geometry>
<material name="link_gripper_material">
<color rgba="1 0 0 1.0"/>
</material>
</visual>
<collision>
<origin xyz="2.2204460492503130808e-16 -1.1102230246251565404e-16 0" rpy="3.141592653589793116 -5.5511151231257827021e-17 6.9388939039072283776e-18" />
<geometry>
<mesh filename="package://nashbot/description/link_gripper.stl"/>
</geometry>
</collision>
<inertial>
<origin xyz="2.220838446854128709e-16 -1.106822966612242034e-16 -0.024499999999999994005" rpy="0 0 0"/>
<mass value="0.0013322760096591535449" />
<inertia ixx="2.6693343350779782135e-07" ixy="9.2611138725814167527e-24"  ixz="1.4817782196130270331e-23" iyy="2.6693343350779771547e-07" iyz="-1.8624148598909082776e-24" izz="7.3441715032460806266e-10" />
</inertial>
</link>

<link name="link_gripper_4">
<visual>
<origin xyz="-0.00057750000000034162895 0.0046724999999999683453 -0.010801349999999931839" rpy="1.570796326794896558 1.570796326794896558 0" />
<geometry>
<mesh filename="package://nashbot/description/link_gripper.stl"/>
</geometry>
<material name="link_gripper_material">
<color rgba="1 0 0 1.0"/>
</material>
</visual>
<collision>
<origin xyz="-0.00057750000000034162895 0.0046724999999999683453 -0.010801349999999931839" rpy="1.570796326794896558 1.570796326794896558 0" />
<geometry>
<mesh filename="package://nashbot/description/link_gripper.stl"/>
</geometry>
</collision>
<inertial>
<origin xyz="0.0067845824710869714544 -0.0030644503528196162176 -0.0069103737692241106599" rpy="0 0 0"/>
<mass value="0.017539230138657713187" />
<inertia ixx="7.8497834202637427622e-07" ixy="1.9561446228040507131e-07"  ixz="-9.7568542434152823141e-08" iyy="8.9454044869764264525e-07" iyz="2.7557781887862182602e-08" izz="1.1350635878775226288e-06" />
</inertial>
</link>

<joint name="slider1" type="prismatic">
<origin xyz="-1.1102230246251565404e-15 -2.2204460492503130808e-16 -0.006355949457091503163" rpy="4.8572257327350450732e-17 -5.8841820305133052096e-15 -3.1415926535897922278" />
<parent link="link_gripper_3" />
<child link="link_gripper_4" />
<axis xyz="0 0 1"/>
<limit effort="1" velocity="20" lower="0.010000000000000000208" upper="0.020000000000000000416"/>
<joint_properties friction="0.0"/>
</joint>

<link name="link_gripper_5">
<visual>
<origin xyz="-0.017027500000000195257 -0.004672499999999857323 0.00030134999999997802433" rpy="-1.570796326794896558 -1.570796326794896558 0" />
<geometry>
<mesh filename="package://nashbot/description/link_gripper.stl"/>
</geometry>
<material name="link_gripper_material">
<color rgba="1 0 0 1.0"/>
</material>
</visual>
<collision>
<origin xyz="-0.017027500000000195257 -0.004672499999999857323 0.00030134999999997802433" rpy="-1.570796326794896558 -1.570796326794896558 0" />
<geometry>
<mesh filename="package://nashbot/description/link_gripper.stl"/>
</geometry>
</collision>
<inertial>
<origin xyz="-0.0097570253032024031881 0.0030022726146262763633 -0.0035981222410247895756" rpy="0 0 0"/>
<mass value="0.017629438658405591211" />
<inertia ixx="8.0176581141768672658e-07" ixy="-2.1080710958497017939e-07"  ixz="9.4900764699477784347e-08" iyy="9.2435124899825200829e-07" iyz="2.5747061449944247464e-08" izz="1.1671980438858706959e-06" />
</inertial>
</link>

<joint name="slider2" type="prismatic">
<origin xyz="-1.1102230246251565404e-15 6.6613381477509392425e-16 -0.035499111606307476308" rpy="-6.9388939039072222147e-18 -1.337818744673312369e-14 7.4176775832768208248e-15" />
<parent link="link_gripper_3" />
<child link="link_gripper_5" />
<axis xyz="0 0 1"/>
<limit effort="1" velocity="20" lower="-0.011000000000000001096" upper="0.0010000000000000000208"/>
<joint_properties friction="0.0"/>
</joint>

<joint name="gripperrod1" type="fixed">
<origin xyz="0.044350000000000111555 -0.0075950000000000184031 -0.011094999999999966001" rpy="-1.570796326794896558 -3.4694469519536702719e-17 -1.5707963267948750197" />
<parent link="link_gripper_2" />
<child link="link_gripper_3" />
<axis xyz="0 0 1"/>
<limit effort="1" velocity="20" />
<joint_properties friction="0.0"/>
</joint>

<link name="link_gripper_6">
<visual>
<origin xyz="-2.2204460492503130808e-16 1.1102230246251565404e-16 -0.048999999999999932498" rpy="-6.9388939039072283776e-18 -0 -6.9388939039072283776e-18" />
<geometry>
<mesh filename="package://nashbot/description/link_gripper.stl"/>
</geometry>
<material name="link_gripper_material">
<color rgba="1 0 0 1.0"/>
</material>
</visual>
<collision>
<origin xyz="-2.2204460492503130808e-16 1.1102230246251565404e-16 -0.048999999999999932498" rpy="-6.9388939039072283776e-18 -0 -6.9388939039072283776e-18" />
<geometry>
<mesh filename="package://nashbot/description/link_gripper.stl"/>
</geometry>
</collision>
<inertial>
<origin xyz="-2.1928531875431809084e-16 1.1136230826380710468e-16 -0.024499999999999938494" rpy="0 0 0"/>
<mass value="0.0013322760096591535449" />
<inertia ixx="2.6693343350779782135e-07" ixy="5.5566683235488499047e-24"  ixz="8.1536682996997417069e-26" iyy="2.6693343350779771547e-07" iyz="-1.8420306891416585704e-24" izz="7.3441715032460806266e-10" />
</inertial>
</link>

<joint name="gripperrod2" type="fixed">
<origin xyz="0.044349999999999667466 0.0088550000000002793143 -0.011094999999999743956" rpy="-1.570796326794896336 4.7878367936959836363e-16 -1.5707963267948956698" />
<parent link="link_gripper_2" />
<child link="link_gripper_6" />
<axis xyz="0 0 1"/>
<limit effort="1" velocity="20" />
<joint_properties friction="0.0"/>
</joint>

<joint name="gripper_rear_mid" type="fixed">
<origin xyz="-0.019249999999999545253 -0.00041629195597780999094 -0.018480000000000162963" rpy="1.9706458687096433929e-15 -1.2490009027032971637e-16 0" />
<parent link="link_gripper" />
<child link="link_gripper_2" />
<axis xyz="0 0 1"/>
<limit effort="1" velocity="20" />
<joint_properties friction="0.0"/>
</joint>

<joint name="gripper_last_coupling" type="fixed">
<origin xyz="0 2.2204460492503130808e-16 -0.0099999999999997868372" rpy="1.010302952408874308e-14 -9.7144514654699964692e-17 5.5511151231257124442e-17" />
<parent link="link_armlast2" />
<child link="link_gripper" />
<axis xyz="0 0 1"/>
<limit effort="1" velocity="20" />
<joint_properties friction="0.0"/>
</joint>

<joint name="wrist3_end_auxiliary" type="fixed">
<origin xyz="2.2204460492503130808e-16 -2.2204460492503130808e-16 -0.015000000000000124345" rpy="-1.1324274851176838104e-14 4.4408920985006922288e-16 -3.8857805861881050839e-16" />
<parent link="link_armlast" />
<child link="link_armlast2" />
<axis xyz="0 0 1"/>
<limit effort="1" velocity="20" />
<joint_properties friction="0.0"/>
</joint>

<joint name="wrist3" type="revolute">
<origin xyz="-2.2204460492503130808e-16 2.9056618222611518831e-17 0.0040499999999997760014" rpy="-3.1415926535897904515 1.1921019726912552088e-14 2.2674957491924909725" />
<parent link="link_servo_mg_4" />
<child link="link_armlast" />
<axis xyz="0 0 1"/>
<limit effort="1" velocity="20" lower="-1.570796326794896558" upper="1.570796326794896558"/>
<joint_properties friction="0.0"/>
</joint>

<joint name="servo2_wrist3" type="fixed">
<origin xyz="0.038543822243809644501 -1.3010426069826053208e-17 -0.013174576908349555637" rpy="6.9659989582193505811e-18 1.5707963267948961139 0" />
<parent link="link_arm_wrist2" />
<child link="link_servo_mg_4" />
<axis xyz="0 0 1"/>
<limit effort="1" velocity="20" />
<joint_properties friction="0.0"/>
</joint>

<joint name="wrist2" type="revolute">
<origin xyz="-2.7755575615628913511e-17 -5.5511151231257827021e-17 0.0040500000000021074698" rpy="-3.1415926535897926719 -2.0886070650760544424e-15 1.2148495890339732206" />
<parent link="link_servo_mg_3" />
<child link="link_arm_wrist2" />
<axis xyz="0 0 1"/>
<limit effort="1" velocity="20" lower="-1.0471975511965976313" upper="1.0471975511965976313"/>
<joint_properties friction="0.0"/>
</joint>

<joint name="servo_wrist2" type="fixed">
<origin xyz="0.019999999999999573674 0 -0.0620344985604285859" rpy="-1.570796326794896558 -2.1380466841414147439e-16 1.5707963267948947816" />
<parent link="link_wrist_end" />
<child link="link_servo_mg_3" />
<axis xyz="0 0 1"/>
<limit effort="1" velocity="20" />
<joint_properties friction="0.0"/>
</joint>

<joint name="wrist1_linke2" type="fixed">
<origin xyz="0 5.5511151231257827021e-17 -0.007050000000000167244" rpy="4.8010640602002436815e-15 1.3877787807814077732e-17 -1.0061396160665206279e-16" />
<parent link="link_wrist_base" />
<child link="link_wrist_end" />
<axis xyz="0 0 1"/>
<limit effort="1" velocity="20" />
<joint_properties friction="0.0"/>
</joint>

<joint name="motor_wrist2_coupler" type="fixed">
<origin xyz="-2.7755575615628913511e-17 -2.2204460492503130808e-16 -0.0039999999999998370193" rpy="3.6667717473459804332e-16 2.0816681711721685133e-17 -1.570796326794896558" />
<parent link="link_motor_horn" />
<child link="link_wrist_base" />
<axis xyz="0 0 1"/>
<limit effort="1" velocity="20" />
<joint_properties friction="0.0"/>
</joint>

<joint name="wrist1" type="revolute">
<origin xyz="-2.498001805406602216e-16 6.6613381477509392425e-16 0.041675000000000461675" rpy="3.1415926535897904515 -9.6500498564247931542e-15 -3.1192374473449251404" />
<parent link="link_planetary_gear_motor_5" />
<child link="link_motor_horn" />
<axis xyz="0 0 1"/>
<limit effort="1" velocity="20" lower="-1.570796326794896558" upper="1.570796326794896558"/>
<joint_properties friction="0.0"/>
</joint>

<joint name="link3_motor" type="fixed">
<origin xyz="-2.2204460492503130808e-16 0.019049999999999955858 0.016000000000000014211" rpy="-1.5707963267948983344 1.5707963267948910069 0" />
<parent link="link_wrist_mid" />
<child link="link_planetary_gear_motor_5" />
<axis xyz="0 0 1"/>
<limit effort="1" velocity="20" />
<joint_properties friction="0.0"/>
</joint>

<joint name="link3_fix_wrist" type="fixed">
<origin xyz="4.4408920985006261617e-16 -0.12000000000000005107 5.5511151231257827021e-17" rpy="-3.1415926535897900074 1.104143058896210781e-17 -1.1796119636642411502e-16" />
<parent link="link_arm4" />
<child link="link_wrist_mid" />
<axis xyz="0 0 1"/>
<limit effort="1" velocity="20" />
<joint_properties friction="0.0"/>
</joint>

<joint name="elbow" type="revolute">
<origin xyz="1.6653345369377348106e-16 -0.13846826553344704358 -0.0090000000000001190159" rpy="-2.6293561987681724826e-15 6.1629867559164618952e-16 1.600510027273494229" />
<parent link="link_arm3" />
<child link="link_arm4" />
<axis xyz="0 0 1"/>
<limit effort="1" velocity="20" lower="-1.7453292519943295336" upper="1.7453292519943295336"/>
<joint_properties friction="0.0"/>
</joint>

<link name="link_planetary_gear_motor_6">
<visual>
<origin xyz="-2.2204460492503130808e-16 0 -0.026817798965425715396" rpy="1.570796326794896558 1.570796326794896558 0" />
<geometry>
<mesh filename="package://nashbot/description/link_planetary_gear_motor.stl"/>
</geometry>
<material name="link_planetary_gear_motor_material">
<color rgba="0.58823529411764707842 0.58823529411764707842 0.6313725490196078205 1.0"/>
</material>
</visual>
<collision>
<origin xyz="-2.2204460492503130808e-16 0 -0.026817798965425715396" rpy="1.570796326794896558 1.570796326794896558 0" />
<geometry>
<mesh filename="package://nashbot/description/link_planetary_gear_motor.stl"/>
</geometry>
</collision>
<inertial>
<origin xyz="4.6359941982387936168e-11 8.8798397599334392054e-07 -0.029000518840529437153" rpy="0 0 0"/>
<mass value="0.16371460908246579513" />
<inertia ixx="4.9412215825825101011e-05" ixy="3.9662144341094057097e-13"  ixz="-2.6336340798457073189e-13" iyy="4.9418313465302949824e-05" iyz="-5.6989714436473143808e-09" izz="9.4495347188306969184e-06" />
</inertial>
</link>

<joint name="servo" type="fixed">
<origin xyz="-5.5511151231257827021e-17 -0.13846826553344748767 -0.049999999999999988898" rpy="3.2138471758079218221e-15 -7.0236275313145972101e-16 1.57079632679489678" />
<parent link="link_arm3" />
<child link="link_planetary_gear_motor_6" />
<axis xyz="0 0 1"/>
<limit effort="1" velocity="20" />
<joint_properties friction="0.0"/>
</joint>

<link name="link_planetary_gear_motor_7">
<visual>
<origin xyz="-4.4408920985006261617e-16 5.5511151231257827021e-17 -0.026817798965425687641" rpy="1.570796326794896558 1.570796326794896558 0" />
<geometry>
<mesh filename="package://nashbot/description/link_planetary_gear_motor.stl"/>
</geometry>
<material name="link_planetary_gear_motor_material">
<color rgba="0.58823529411764707842 0.58823529411764707842 0.6313725490196078205 1.0"/>
</material>
</visual>
<collision>
<origin xyz="-4.4408920985006261617e-16 5.5511151231257827021e-17 -0.026817798965425687641" rpy="1.570796326794896558 1.570796326794896558 0" />
<geometry>
<mesh filename="package://nashbot/description/link_planetary_gear_motor.stl"/>
</geometry>
</collision>
<inertial>
<origin xyz="4.6359719935212960973e-11 8.8798397604881907287e-07 -0.029000518840529402459" rpy="0 0 0"/>
<mass value="0.16371460908246579513" />
<inertia ixx="4.9412215825825101011e-05" ixy="3.9662144392525420272e-13"  ixz="-2.6336340803847636171e-13" iyy="4.9418313465302949824e-05" iyz="-5.6989714436433654205e-09" izz="9.4495347188306969184e-06" />
</inertial>
</link>

<joint name="pmotor2_fixed" type="fixed">
<origin xyz="-5.5511151231257827021e-17 -0.13846826553344748767 0" rpy="-3.141592653589793116 9.3486250666781121677e-15 1.570796326794896558" />
<parent link="link_arm3" />
<child link="link_planetary_gear_motor_7" />
<axis xyz="0 0 1"/>
<limit effort="1" velocity="20" />
<joint_properties friction="0.0"/>
</joint>

<joint name="shoulder" type="revolute">
<origin xyz="-0.033380152669139795396 0.02500000000000004996 -0.066448956727980901249" rpy="1.570796326794896558 -0.025708972779224893018 3.1415926535897860106" />
<parent link="link_arm2" />
<child link="link_arm3" />
<axis xyz="0 0 1"/>
<limit effort="1" velocity="20" lower="-1.570796326794896558" upper="1.570796326794896558"/>
<joint_properties friction="0.0"/>
</joint>

<link name="link_wormgearmotor_3">
<visual>
<origin xyz="2.2204460492503130808e-16 2.2204460492503130808e-16 0.013700000000000017719" rpy="-1.57079632679489678 7.7483873275442067378e-16 0" />
<geometry>
<mesh filename="package://nashbot/description/link_wormgearmotor.stl"/>
</geometry>
<material name="link_wormgearmotor_material">
<color rgba="0.91764705882352937127 0.91764705882352937127 0.91764705882352937127 1.0"/>
</material>
</visual>
<collision>
<origin xyz="2.2204460492503130808e-16 2.2204460492503130808e-16 0.013700000000000017719" rpy="-1.57079632679489678 7.7483873275442067378e-16 0" />
<geometry>
<mesh filename="package://nashbot/description/link_wormgearmotor.stl"/>
</geometry>
</collision>
<inertial>
<origin xyz="0.012275831121147733407 0.00018146365526547936242 -0.012748993109794054188" rpy="0 0 0"/>
<mass value="0.28586755284124198973" />
<inertia ixx="3.6344599448181424105e-05" ixy="-2.2893917968346166535e-06"  ixz="4.1274865069703828028e-06" iyy="0.00011286967916682722206" iyz="-6.3114747963257251393e-08" izz="0.00012232130776055024951" />
</inertial>
</link>

<joint name="wormotor2_fixed" type="fixed">
<origin xyz="-0.033380152669139850907 0.045000000000000012212 -0.066448956727981567383" rpy="1.57079632679489678 -0.3490658503988658401 -5.1201399800818999469e-16" />
<parent link="link_arm2" />
<child link="link_wormgearmotor_3" />
<axis xyz="0 0 1"/>
<limit effort="1" velocity="20" />
<joint_properties friction="0.0"/>
</joint>

<joint name="arm_base_top_mount" type="fixed">
<origin xyz="0 -0.062679852467597274579 -0.0149999999999999023" rpy="3.1554436208840472216e-30 -3.1554436208840472216e-30 -3.141592653589793116" />
<parent link="link_arm1_top_mount" />
<child link="link_arm2" />
<axis xyz="0 0 1"/>
<limit effort="1" velocity="20" />
<joint_properties friction="0.0"/>
</joint>

<joint name="inner_bearing_top_mount" type="fixed">
<origin xyz="0 0.062679852467597246823 -0.012500000000000177636" rpy="-3.1554436208840472216e-30 -7.8886090522101180541e-30 3.0032019670653165201e-28" />
<parent link="link_arm1_bearing" />
<child link="link_arm1_top_mount" />
<axis xyz="0 0 1"/>
<limit effort="1" velocity="20" />
<joint_properties friction="0.0"/>
</joint>

<joint name="base_bearing" type="revolute">
<origin xyz="-1.1102230246251565404e-16 -0.067724570631980868241 -0.024999999999999689138" rpy="8.855258663510191306e-16 2.2453225989533818444e-16 0.07874926632533164883" />
<parent link="link_arm1" />
<child link="link_arm1_bearing" />
<axis xyz="0 0 1"/>
<limit effort="1" velocity="20" lower="-2.0943951023931952626" upper="2.0943951023931952626"/>
<joint_properties friction="0.0"/>
</joint>

<joint name="arm_lowermost_bearing" type="fixed">
<origin xyz="1.3877787807814456755e-16 0.067724570631980895996 -0.0075000000000000621725" rpy="-2.3856849625160407362e-16 -8.162891439839844806e-16 -1.1102230246224337377e-16" />
<parent link="link_arm1_base" />
<child link="link_arm1" />
<axis xyz="0 0 1"/>
<limit effort="1" velocity="20" />
<joint_properties friction="0.0"/>
</joint>

<joint name="wormotor1_fixed" type="fixed">
<origin xyz="3.4429564691740299764e-05 -9.5955306764927694729e-05 -0.0091999999999998749445" rpy="4.5044126570945985887e-17 9.3226904147139345387e-16 -3.141592653589793116" />
<parent link="link_wormgearmotor" />
<child link="link_arm1_base" />
<axis xyz="0 0 1"/>
<limit effort="1" velocity="20" />
<joint_properties friction="0.0"/>
</joint>

<joint name="worm1_armplate" type="fixed">
<origin xyz="-1.1102230246251565404e-16 -5.5511151231257827021e-17 -0.010000000000000008882" rpy="-2.0614184427761112388e-16 1.1597989748731985664e-16 -3.141592653589793116" />
<parent link="link_arm_mount_base" />
<child link="link_wormgearmotor" />
<axis xyz="0 0 1"/>
<limit effort="1" velocity="20" />
<joint_properties friction="0.0"/>
</joint>

<link name="link_generic_mount">
<visual>
<origin xyz="5.5511151231257827021e-17 -0.0085253454744815271305 -0.003496601315694514156" rpy="1.570796326794896558 -0 2.6339616125023486766e-28" />
<geometry>
<mesh filename="package://nashbot/description/link_generic_mount.stl"/>
</geometry>
<material name="link_generic_mount_material">
<color rgba="0.64705882352941179736 0.64705882352941179736 0.64705882352941179736 1.0"/>
</material>
</visual>
<collision>
<origin xyz="5.5511151231257827021e-17 -0.0085253454744815271305 -0.003496601315694514156" rpy="1.570796326794896558 -0 2.6339616125023486766e-28" />
<geometry>
<mesh filename="package://nashbot/description/link_generic_mount.stl"/>
</geometry>
</collision>
<inertial>
<origin xyz="5.2351408775477312317e-17 -0.0077056887370188205735 -0.0073838757633802928199" rpy="0 0 0"/>
<mass value="0.0034618747626809810713" />
<inertia ixx="4.835283303417396443e-07" ixy="6.6578441877510443893e-23"  ixz="-1.6737099423181556738e-23" iyy="5.9968529205834306022e-07" iyz="-1.5075438945064520127e-07" izz="6.0013261029650674788e-07" />
</inertial>
</link>

<link name="link_cam_v2.1_v1_2">
<visual>
<origin xyz="8.0691592129866762662e-05 -5.5511151231257827021e-17 -5.5511151231257827021e-17" rpy="1.570796326794896558 1.570796326794896558 0" />
<geometry>
<mesh filename="package://nashbot/description/link_cam_v2.1_v1.stl"/>
</geometry>
<material name="link_cam_v2.1_v1_material">
<color rgba="0.76862745098039220171 0.88627450980392152857 0.95294117647058818044 1.0"/>
</material>
</visual>
<collision>
<origin xyz="8.0691592129866762662e-05 -5.5511151231257827021e-17 -5.5511151231257827021e-17" rpy="1.570796326794896558 1.570796326794896558 0" />
<geometry>
<mesh filename="package://nashbot/description/link_cam_v2.1_v1.stl"/>
</geometry>
</collision>
<inertial>
<origin xyz="-0.00030854614512966250248 -6.5697214281588341167e-05 -0.0013912718489254506833" rpy="0 0 0"/>
<mass value="0.00099893693584445397878" />
<inertia ixx="3.7977907253365988544e-08" ixy="4.9719888753987626439e-10"  ixz="-1.2093744048625509235e-09" iyy="4.0322453945985735796e-08" iyz="-3.6890046530512533475e-11" izz="7.3699524745787560956e-08" />
</inertial>
</link>

<joint name="camera_front" type="fixed">
<origin xyz="6.6613381477509392425e-16 -0.015125345474481688424 -0.015851898188250501676" rpy="-1.570796326794896558 1.570796326794896558 0" />
<parent link="link_generic_mount" />
<child link="link_cam_v2.1_v1_2" />
<axis xyz="0 0 1"/>
<limit effort="1" velocity="20" />
<joint_properties friction="0.0"/>
</joint>

<joint name="camera_front_mount" type="fixed">
<origin xyz="-3.4256714070979299436e-06 0.08666658809721727863 -0.010000000000000230926" rpy="-2.2894089079620280029e-16 -2.2394059182112598392e-17 -3.141592653589793116" />
<parent link="link_arm_mount_base" />
<child link="link_generic_mount" />
<axis xyz="0 0 1"/>
<limit effort="1" velocity="20" />
<joint_properties friction="0.0"/>
</joint>

<joint name="armplate_baseplate" type="fixed">
<origin xyz="0.33160405844922785645 -0.077914666292583617535 1.5086273283692082092" rpy="-3.1415926535897695793 1.1096868729817315821e-14 0.52359877559829937077" />
<parent link="link_base" />
<child link="link_arm_mount_base" />
<axis xyz="0 0 1"/>
<limit effort="1" velocity="20" />
<joint_properties friction="0.0"/>
</joint>

<link name="link_power_line_mount">
<visual>
<origin xyz="-2.7755575615628913511e-17 -0.0022320933545880439208 0" rpy="-3.141592653589793116 -1.5777218104420236108e-30 -5.5511151230994932962e-17" />
<geometry>
<mesh filename="package://nashbot/description/link_power_line_mount.stl"/>
</geometry>
<material name="link_power_line_mount_material">
<color rgba="0.80784313725490197733 0.18823529411764705621 0.18823529411764705621 1.0"/>
</material>
</visual>
<collision>
<origin xyz="-2.7755575615628913511e-17 -0.0022320933545880439208 0" rpy="-3.141592653589793116 -1.5777218104420236108e-30 -5.5511151230994932962e-17" />
<geometry>
<mesh filename="package://nashbot/description/link_power_line_mount.stl"/>
</geometry>
</collision>
<inertial>
<origin xyz="-2.032697377339243588e-17 0.032759270610845749039 -0.20784101085448336566" rpy="0 0 0"/>
<mass value="0.065027166992509155552" />
<inertia ixx="0.0013033314418726730209" ixy="-7.2349428773637715146e-20"  ixz="1.0847849677415120463e-31" iyy="0.0010128940373348961027" iyz="0.00040303135093734611567" izz="0.00029694552620434654534" />
</inertial>
</link>

<joint name="power_connector" type="fixed">
<origin xyz="0.14435072332820197971 0.23598741654773461307 1.508627328369216869" rpy="3.1415926535897695793 -1.1096868729817296889e-14 -2.6179938779914939673" />
<parent link="link_base" />
<child link="link_power_line_mount" />
<axis xyz="0 0 1"/>
<limit effort="1" velocity="20" />
<joint_properties friction="0.0"/>
</joint>


</robot>
